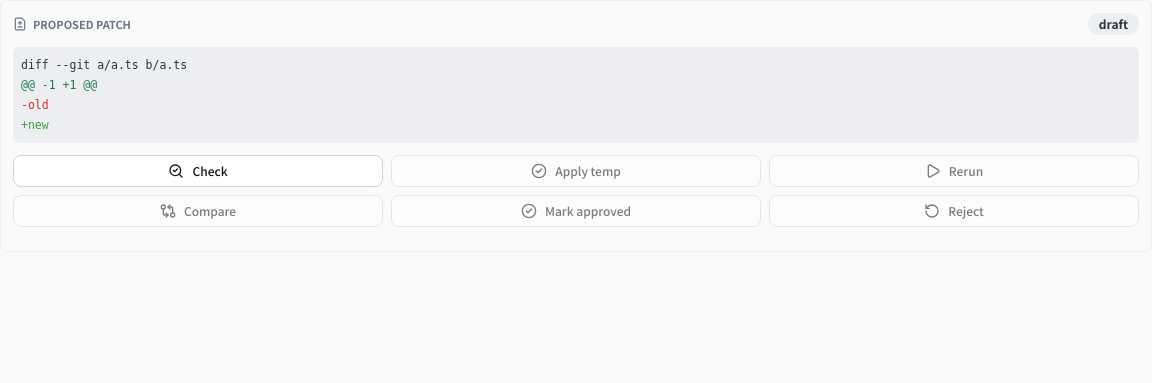
Test: RepairReviewPanel › reverts the temporary patch when rejected
This screenshot has width=1152, height=383.
Click the button "Check" at (198, 171), box [13,155,383,187]
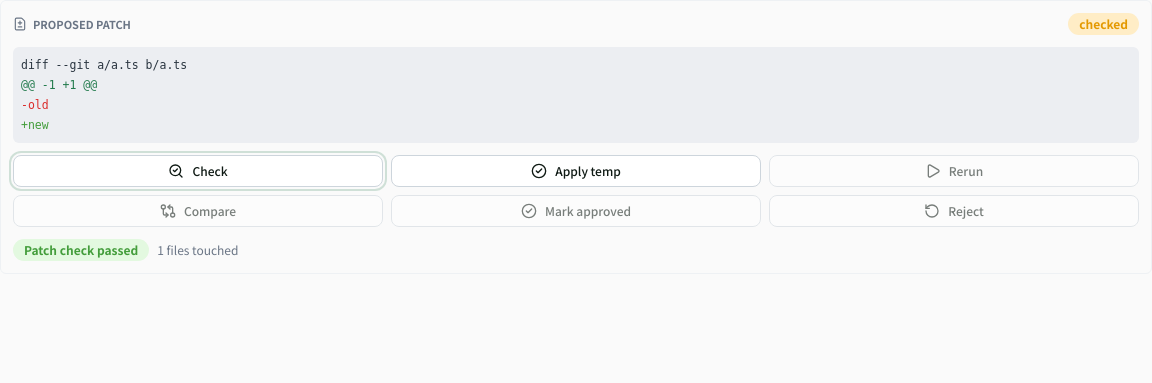
Click the button "Apply temp" at (576, 171), box [391,155,761,187]
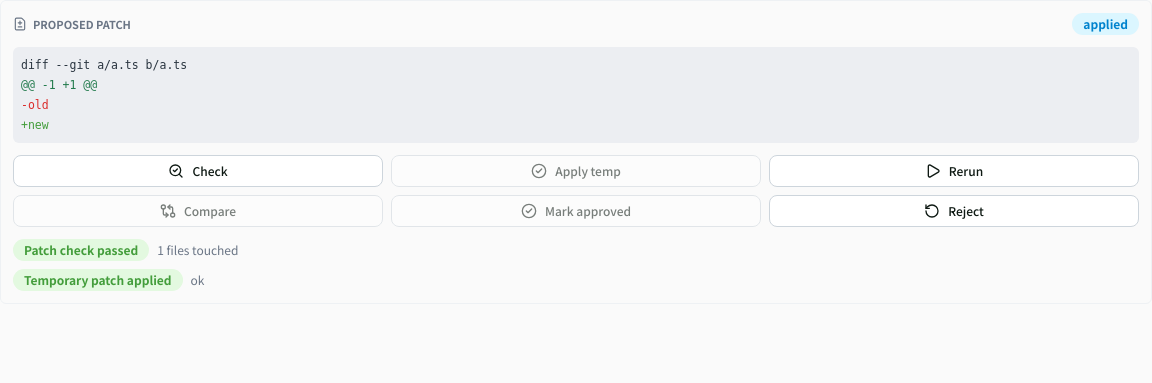
Click the button "Reject" at (954, 211), box [769,195,1139,227]
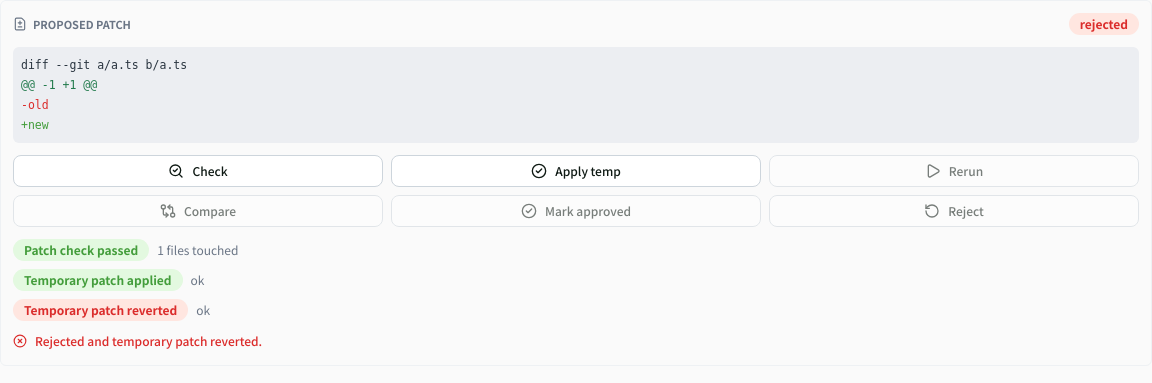
Now the text "Temporary patch reverted" is shown, box [13,299,188,321]
Now the text "Rejected and temporary patch reverted." is shown, box [13,333,262,349]
